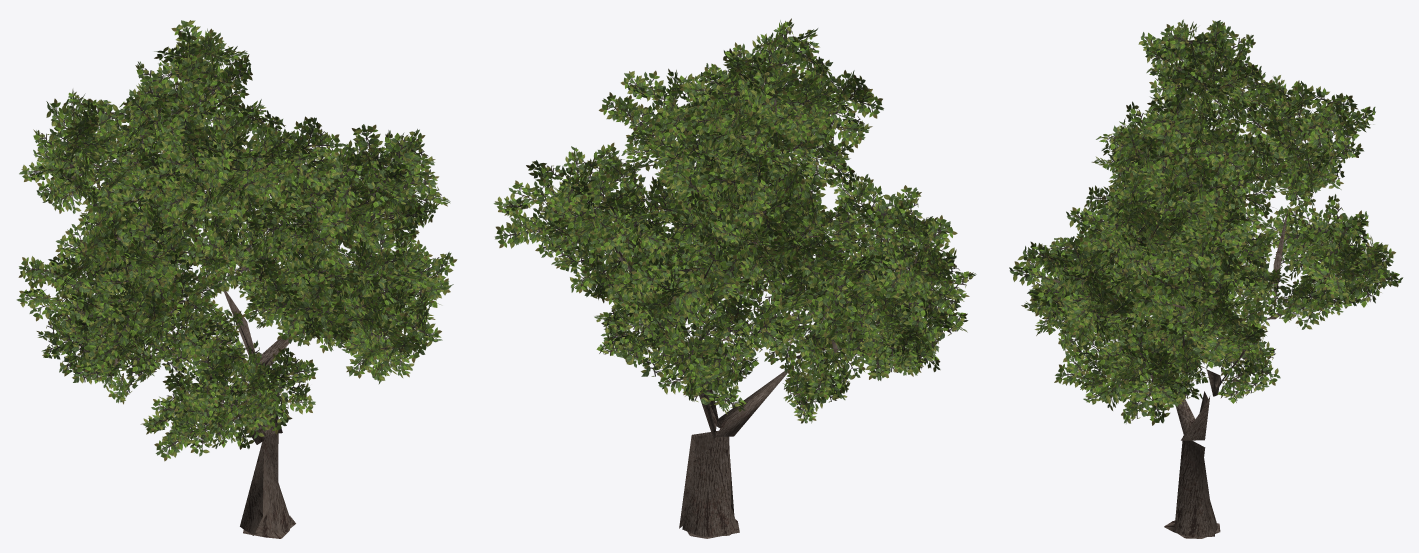
File: agac_genel.glb
The picture shows the model from 3 angles, left to right: view 1: azimuth 30°, elevation 25°; view 2: azimuth 150°, elevation 25°; view 3: azimuth 270°, elevation 25°; orthographic projection. The views are drawn at different scales.
Visible parts, largest first — view 1: crown merged_normal leaves_0; view 2: crown merged_normal leaves_0; view 3: crown merged_normal leaves_0.
Part boxes in pixels (<box>): crown merged_normal leaves_0: <box>16,20,457,538</box>; crown merged_normal leaves_0: <box>493,18,976,538</box>; crown merged_normal leaves_0: <box>1009,19,1403,538</box>.
Size of the model in its own units: 7.16 by 7.71 by 5.8.
2 materials, 2 textured.
